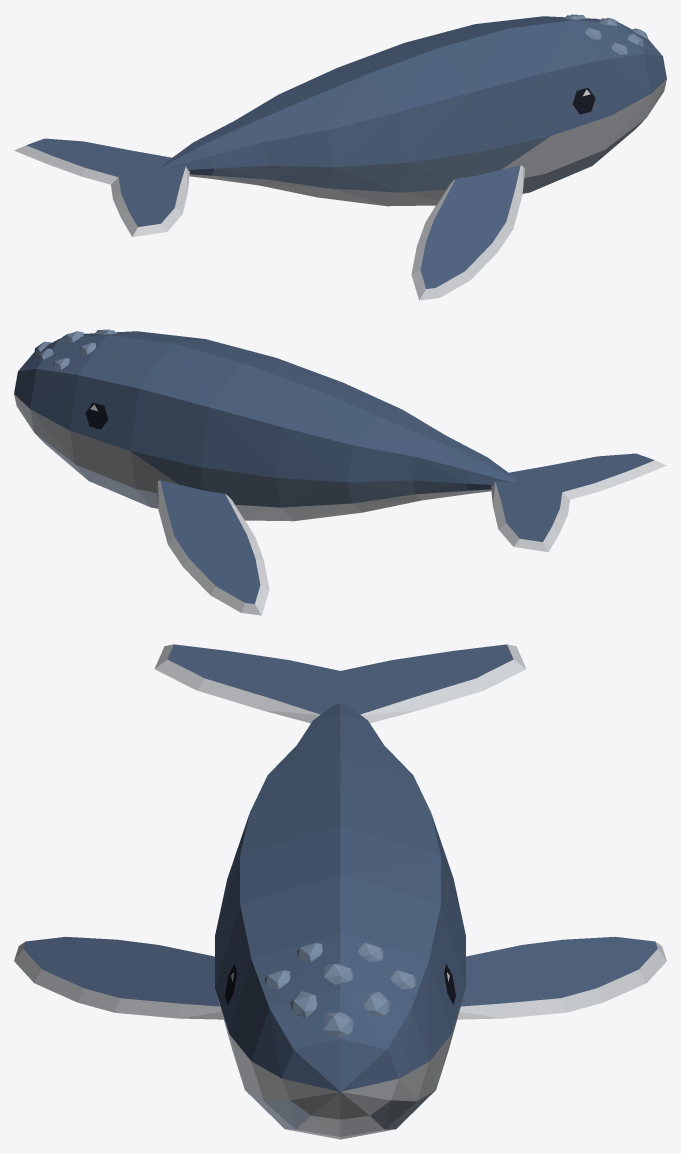
Rendered from whale.glb.
3 renders of one model, top to bottom at view 1: azimuth 30°, elevation 25°; view 2: azimuth 150°, elevation 25°; view 3: azimuth 270°, elevation 25°, orthographic. The views are drawn at different scales.
Visible parts, largest first — view 1: whale; view 2: whale; view 3: whale.
Part boxes in pixels (x1,y1,x2,y2): whale: (14,14,666,300); whale: (14,329,666,615); whale: (14,644,666,1139).
Size of the model in its own units: 1 by 0.254 by 0.6456.
